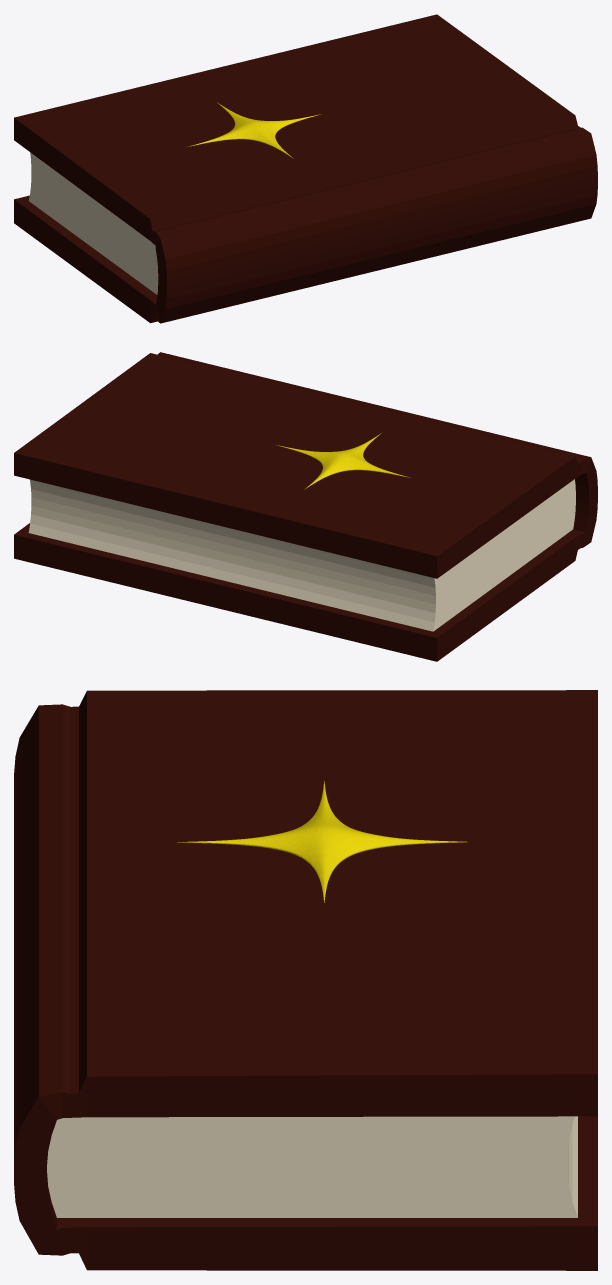
Rendered from drawingbook.fbx.
3 renders of one model, top to bottom at view 1: azimuth 30°, elevation 25°; view 2: azimuth 150°, elevation 25°; view 3: azimuth 270°, elevation 25°, orthographic. The views are drawn at different scales.
Visible parts, largest first — view 1: LP_BOK, HP_BOK.002; view 2: LP_BOK, HP_BOK.002; view 3: LP_BOK, HP_BOK.002.
Part boxes in pixels (box(x1,y1,x2,y2)): LP_BOK: box(14, 14, 597, 323); HP_BOK.002: box(188, 102, 320, 158); LP_BOK: box(14, 352, 597, 661); HP_BOK.002: box(276, 433, 410, 489); LP_BOK: box(14, 690, 597, 1270); HP_BOK.002: box(177, 781, 468, 902).
Bounding box in the file's own units: 250 × 62.79 × 158.
Materials: 2 (1 with a texture image).
